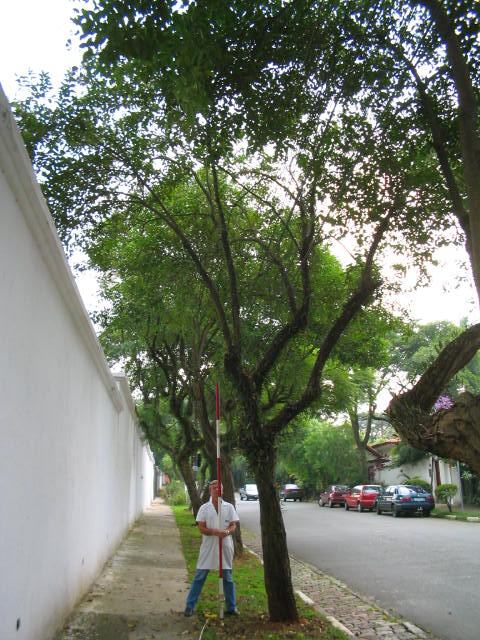crown: (19, 3, 475, 267)
stem: (237, 439, 312, 621)
stick: (207, 383, 227, 619)
tree: (17, 1, 477, 622)
